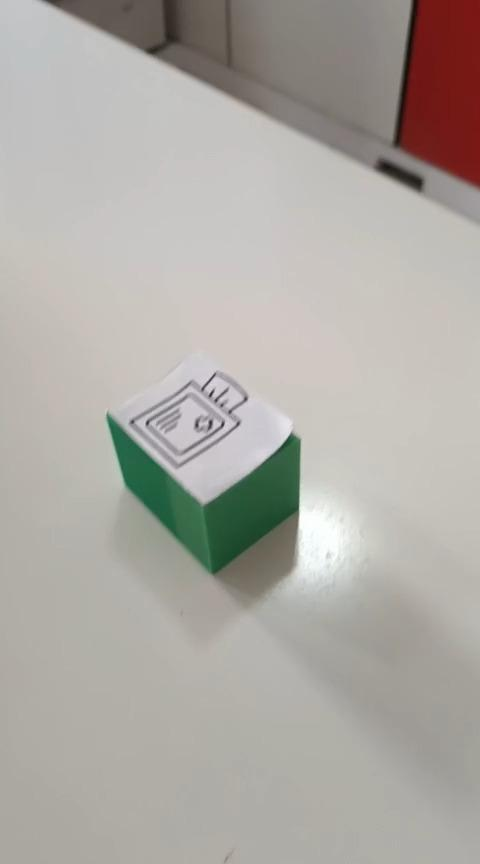Gauze: (104, 351, 301, 575)
